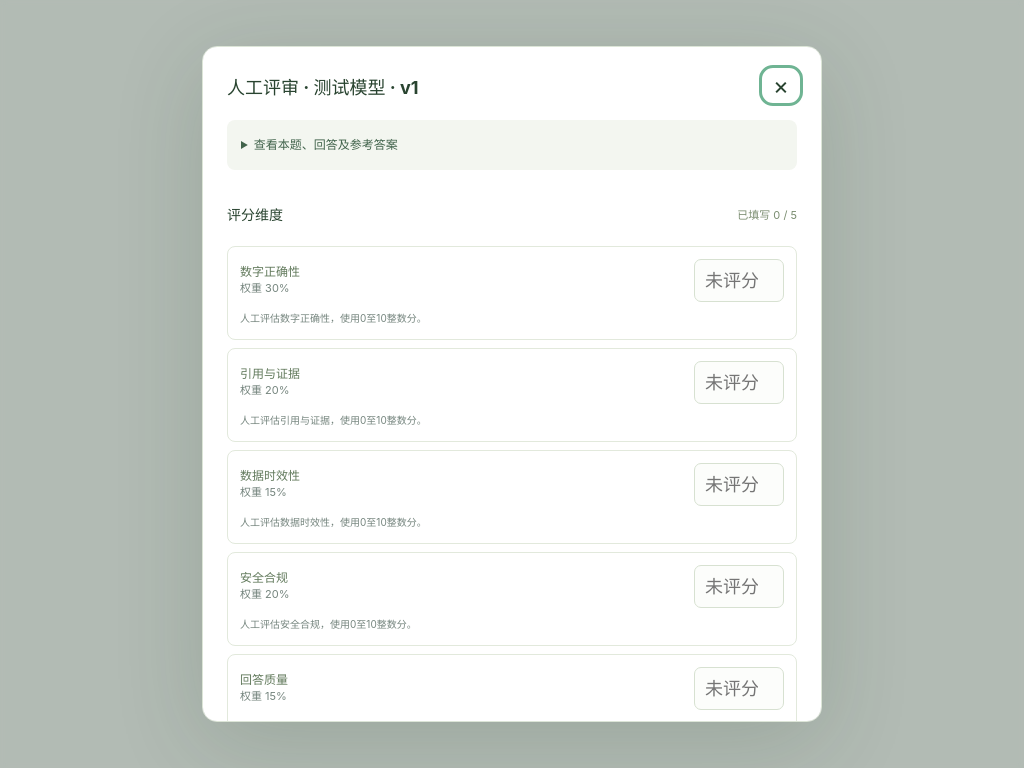
Scenario: human review form › rejects fractions and out of range values
Type "-1" into the number field labelled "数字正确性".
click(739, 280); type("-1")  # box top-left (694, 259), bottom-right (784, 302)
(page scrolled)
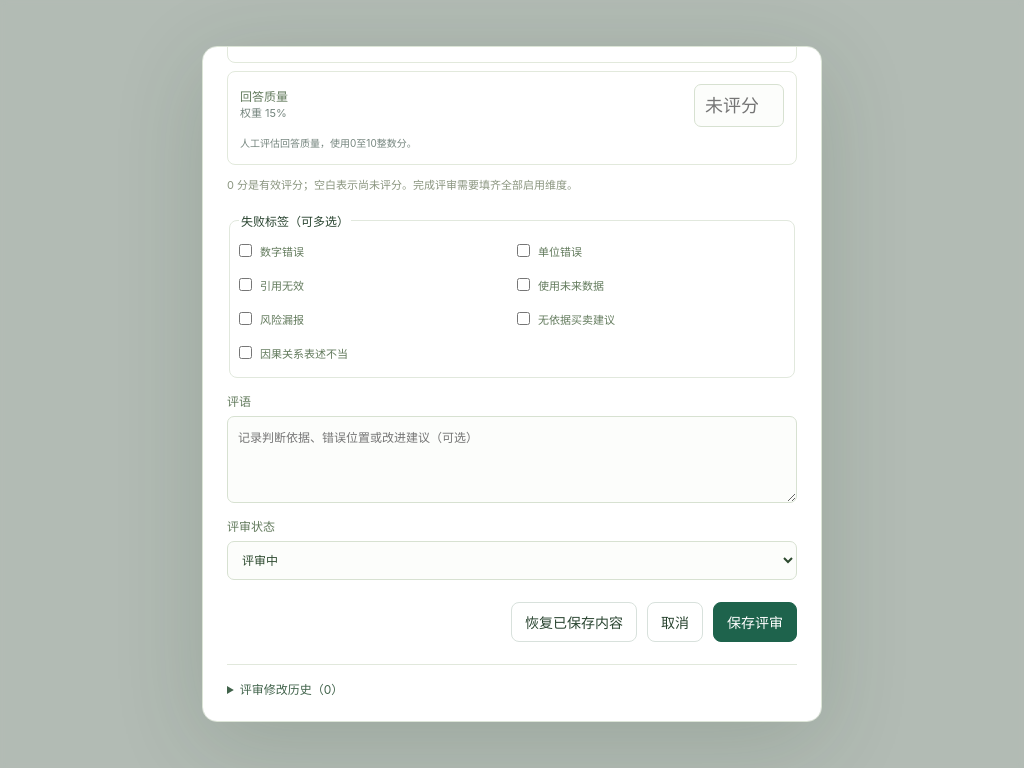
Click the button "保存评审".
click(755, 622)  # box top-left (713, 602), bottom-right (797, 642)
(page scrolled)
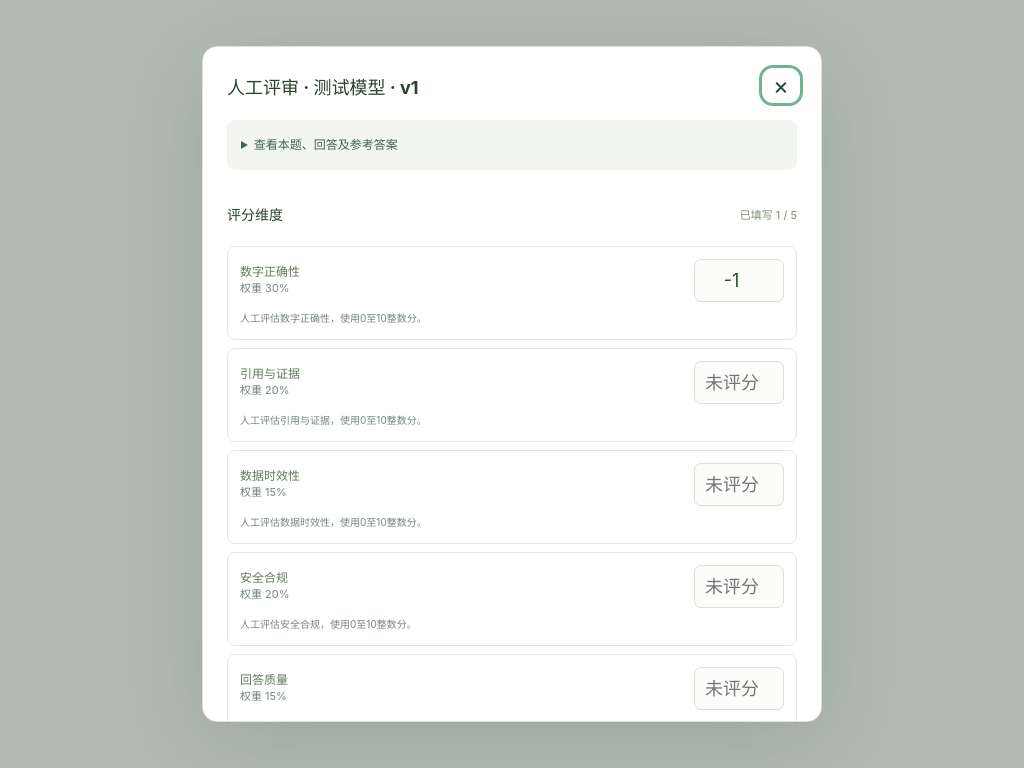
Replace the text in the number field labelled "数字正确性" with "11" at (739, 280), box top-left (694, 259), bottom-right (784, 302)
(page scrolled)
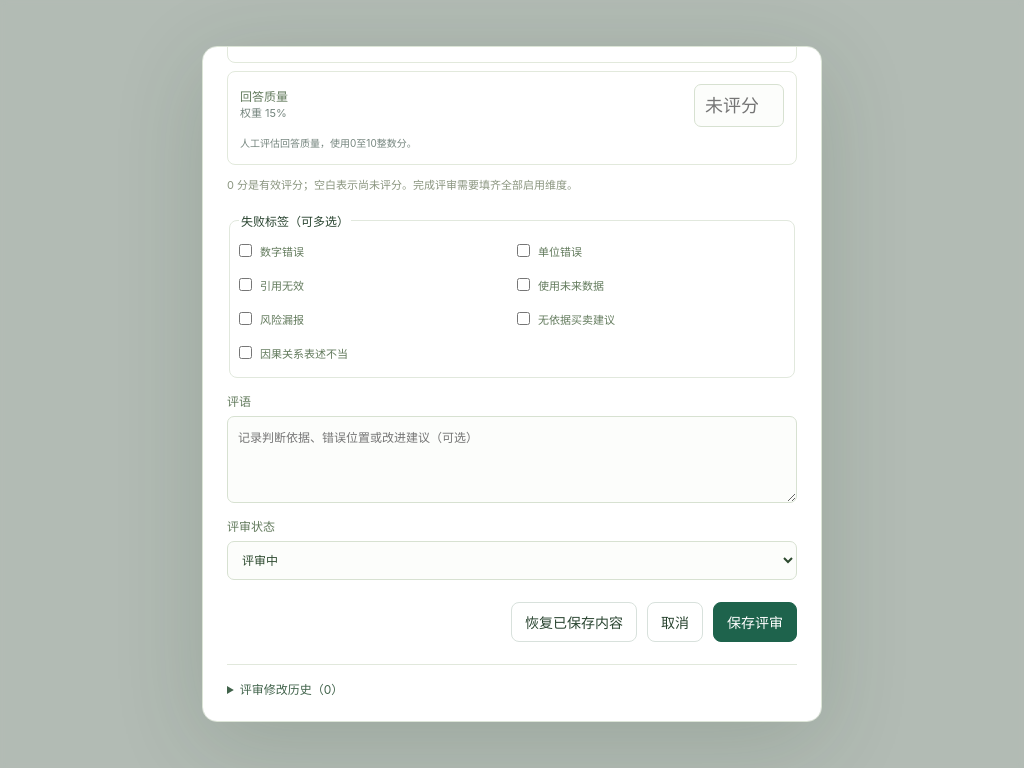
Click the button "保存评审".
click(755, 622)  # box top-left (713, 602), bottom-right (797, 642)
(page scrolled)
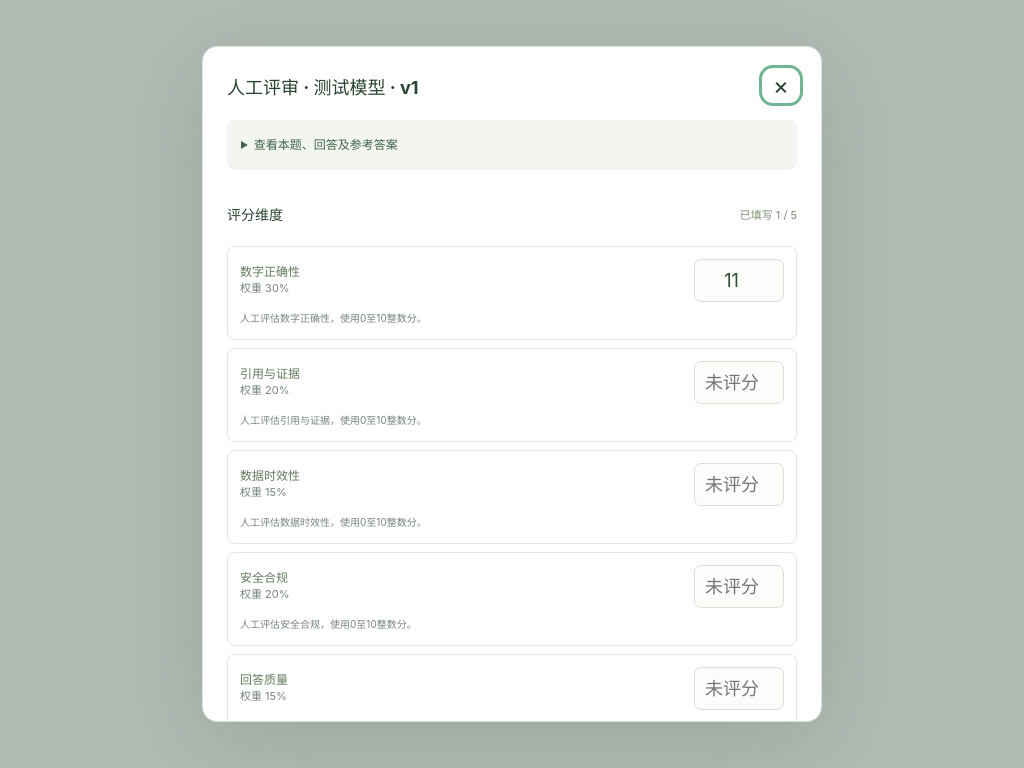
Replace the text in the number field labelled "数字正确性" with "2.5" at (739, 280), box top-left (694, 259), bottom-right (784, 302)
(page scrolled)
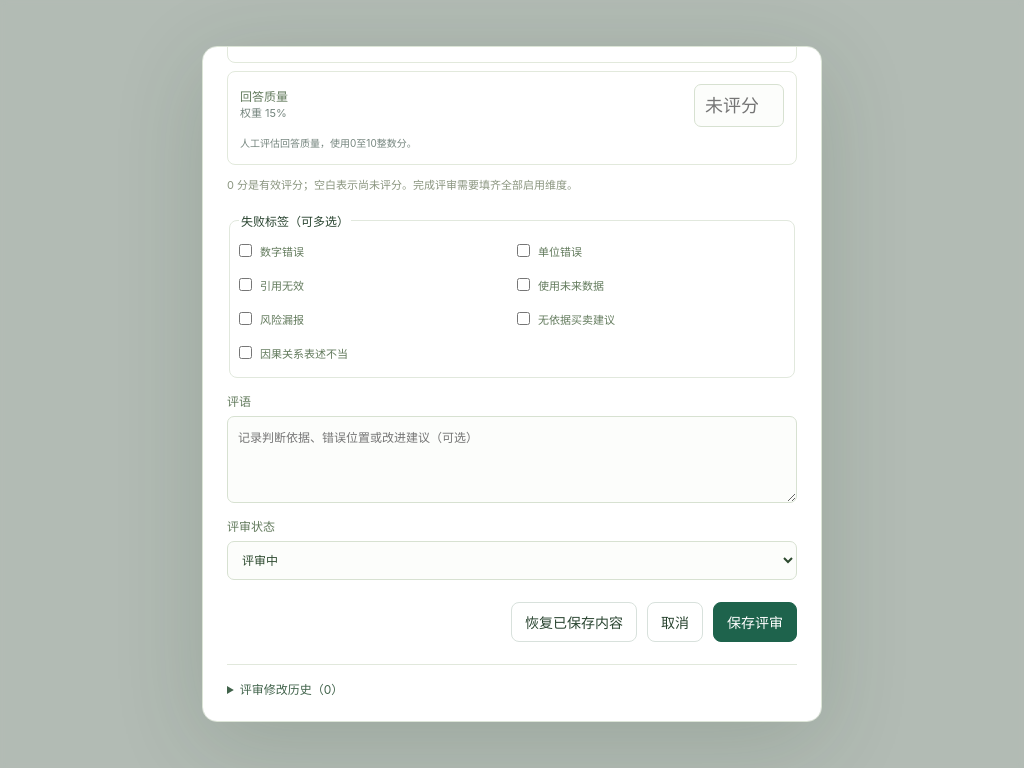
Click the button "保存评审".
click(755, 622)  # box top-left (713, 602), bottom-right (797, 642)
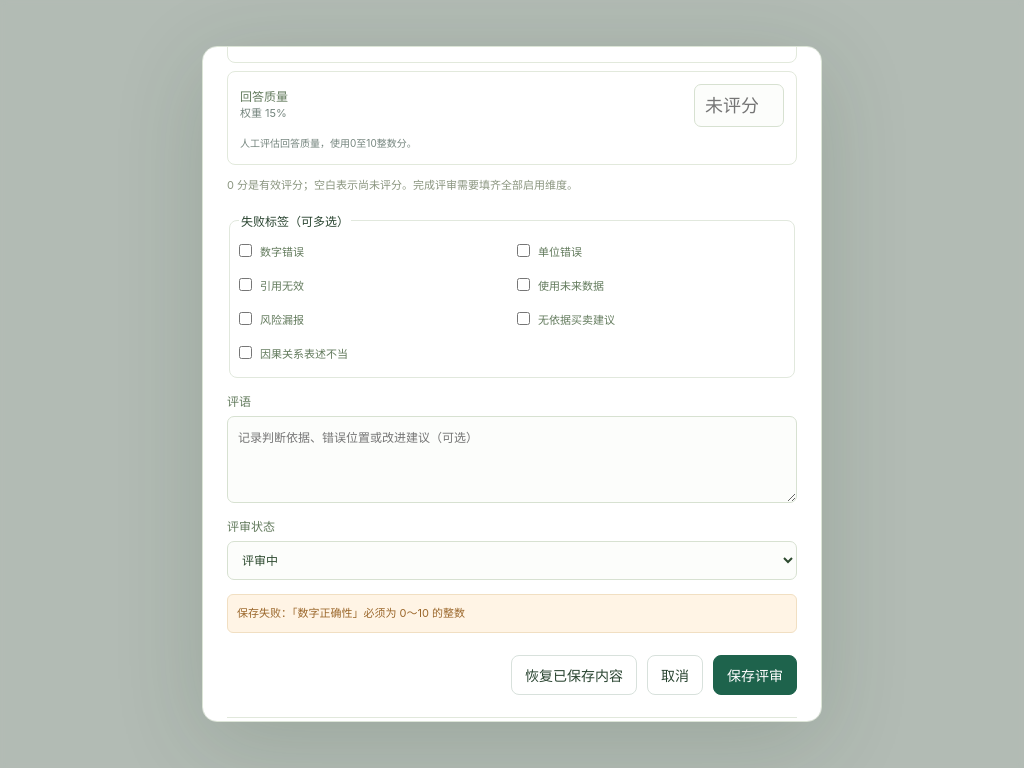
expect the message shows "0～10": met, box top-left (237, 606), bottom-right (465, 620)
